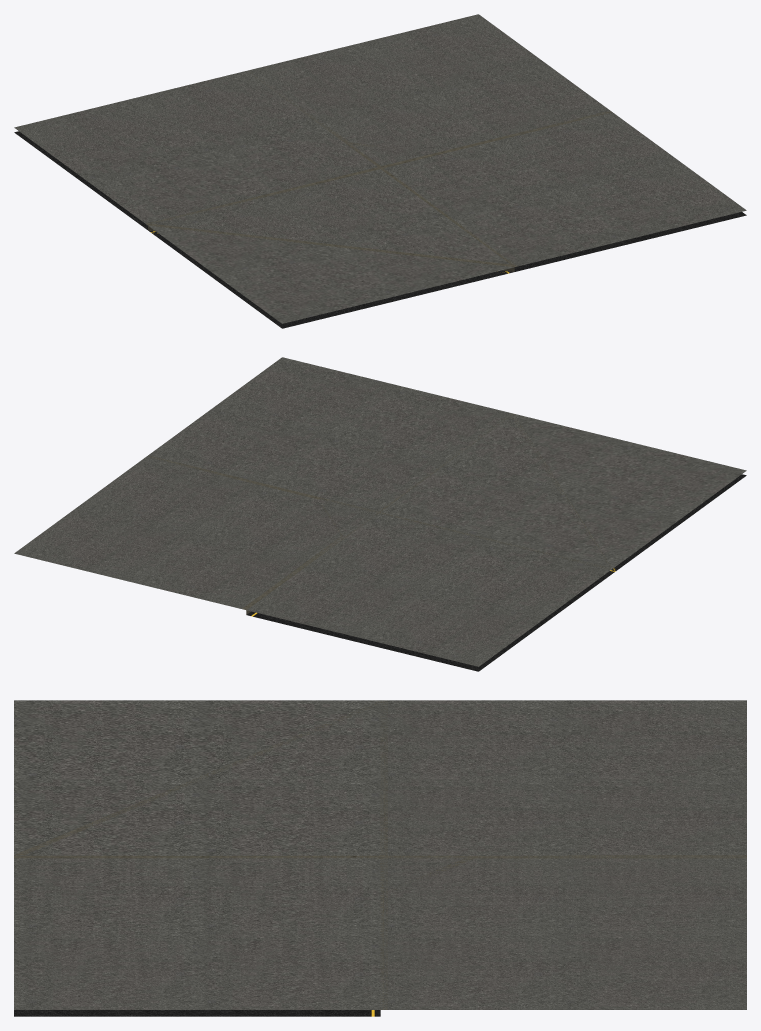
Rendered from RoadPieces.glb.
3 renders of one model, top to bottom at view 1: azimuth 30°, elevation 25°; view 2: azimuth 150°, elevation 25°; view 3: azimuth 270°, elevation 25°, orthographic. The views are drawn at different scales.
Parts seen in each view (by area): view 1: RoadPieces2; view 2: RoadPieces2; view 3: RoadPieces2.
Boxes of the visible parts, x1,y1,x2,y2 form: RoadPieces2: (14,14,746,328); RoadPieces2: (14,357,746,671); RoadPieces2: (14,700,746,1016).
Size of the model in its own units: 10 by 0.1 by 10.
4 materials, 3 textured.
